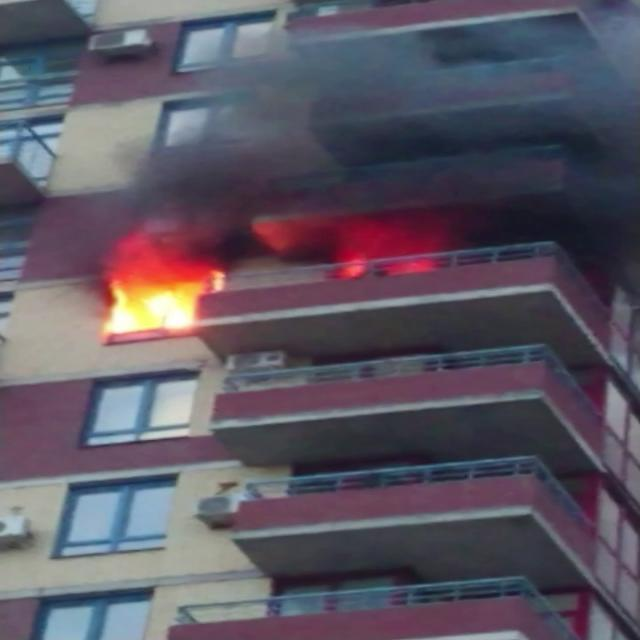Fire: (84, 256, 235, 336)
Smoke: (64, 2, 639, 260)
